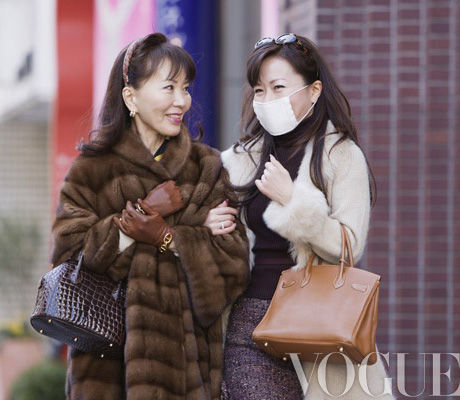mask: (251, 98, 299, 138)
